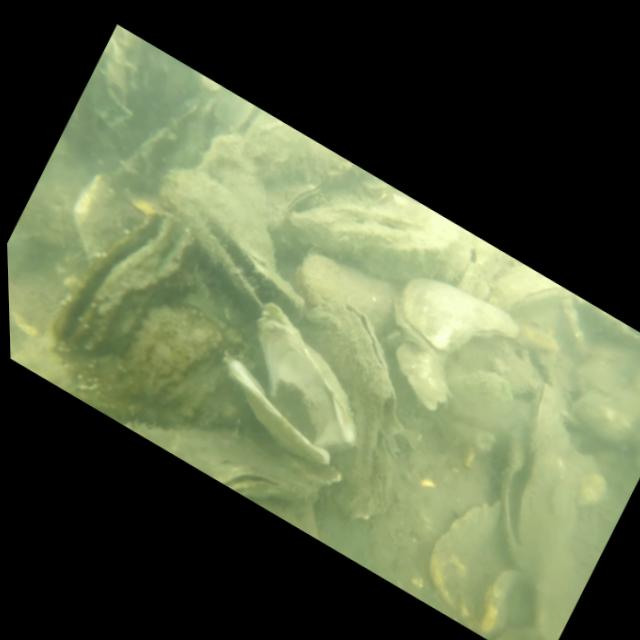Oyster-Closed: (229, 278, 463, 543), (286, 147, 460, 308), (377, 252, 526, 393), (285, 234, 405, 346), (485, 254, 577, 342), (279, 170, 324, 223)
Oyster-Indeterminate: (409, 475, 543, 635), (108, 281, 233, 429), (377, 328, 466, 418)
Oyster-Open: (31, 175, 207, 401), (129, 151, 338, 338), (448, 368, 622, 591), (197, 288, 394, 484), (210, 442, 301, 521)
